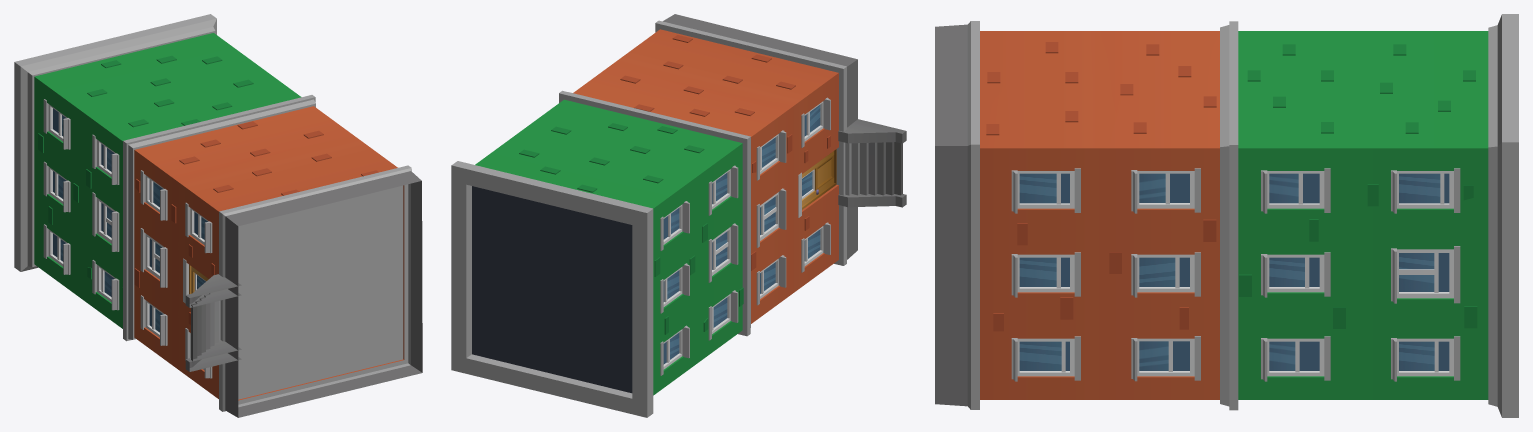
Rendered from Building_2_8_F.glb.
The picture shows the model from 3 angles, left to right: view 1: azimuth 30°, elevation 25°; view 2: azimuth 150°, elevation 25°; view 3: azimuth 270°, elevation 25°; orthographic projection. The views are drawn at different scales.
Visible parts, largest first — view 1: Building_2_8_F; view 2: Building_2_8_F; view 3: Building_2_8_F.
Boxes of the visible parts, x1,y1,x2,y2 form: Building_2_8_F: (14,14,422,417); Building_2_8_F: (451,14,906,417); Building_2_8_F: (935,14,1518,417).
Bounding box in the file's own units: 7.54 × 6.2 × 11.91.
3 materials, 3 textured.
